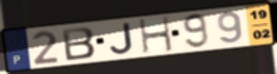2: (29, 29, 62, 67)
9: (183, 12, 212, 51), (216, 9, 245, 45)
B: (60, 26, 97, 63)
H: (137, 16, 175, 55)
J: (109, 21, 136, 56)
